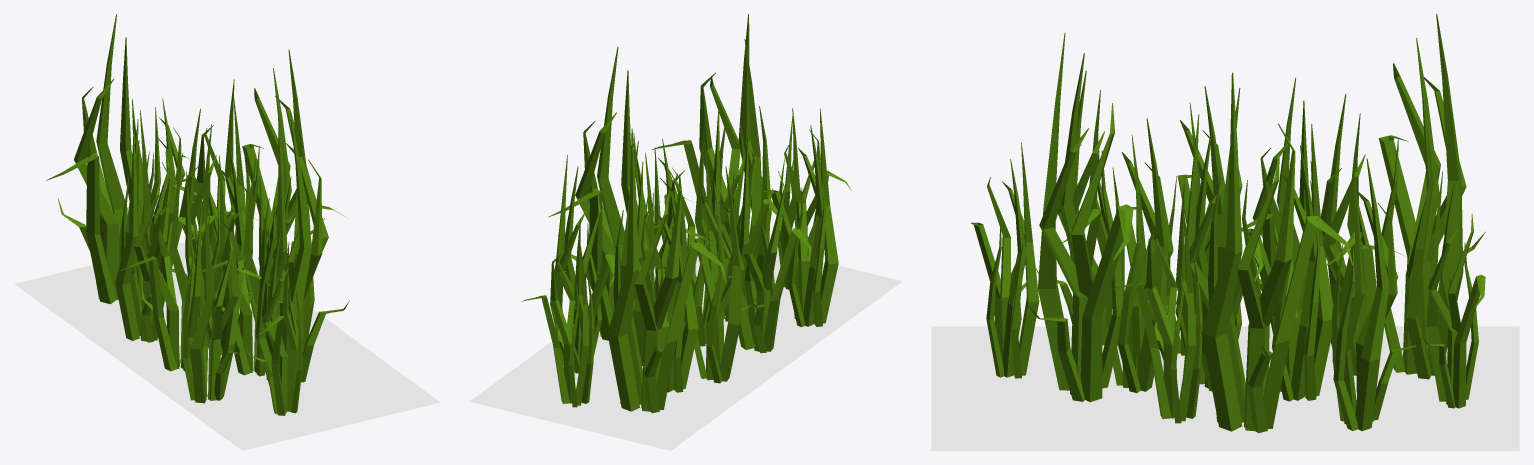
The model's file is drygrass.dae.
3 renders of one model, left to right at view 1: azimuth 30°, elevation 25°; view 2: azimuth 150°, elevation 25°; view 3: azimuth 270°, elevation 25°, orthographic. The views are drawn at different scales.
Visible parts, largest first — view 1: Cube.007, Plane; view 2: Cube.007, Plane; view 3: Cube.007, Plane.
Boxes of the visible parts, x1,y1,x2,y2 form: Cube.007: [46, 14, 349, 415]; Plane: [14, 240, 440, 450]; Cube.007: [521, 14, 851, 413]; Plane: [469, 236, 902, 450]; Cube.007: [971, 14, 1485, 433]; Plane: [931, 326, 1519, 450].
Size of the model in its own units: 2.09 by 3.62 by 2.42.
